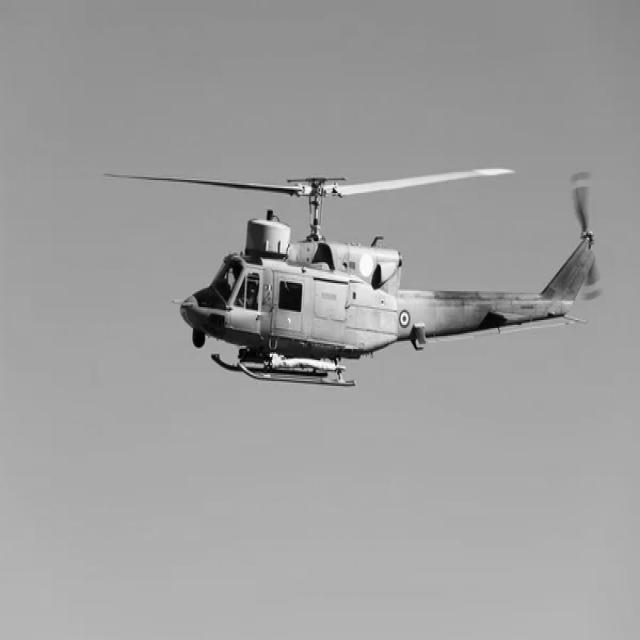Helicopter: (111, 167, 596, 385)
